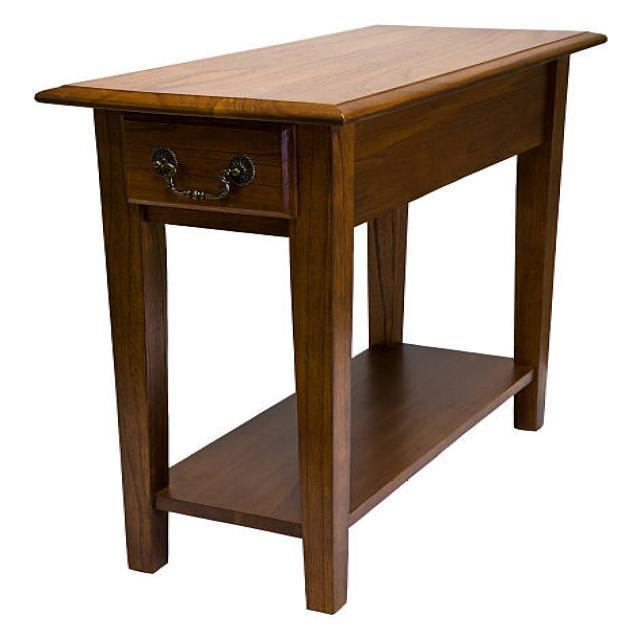table: (32, 23, 608, 614)
